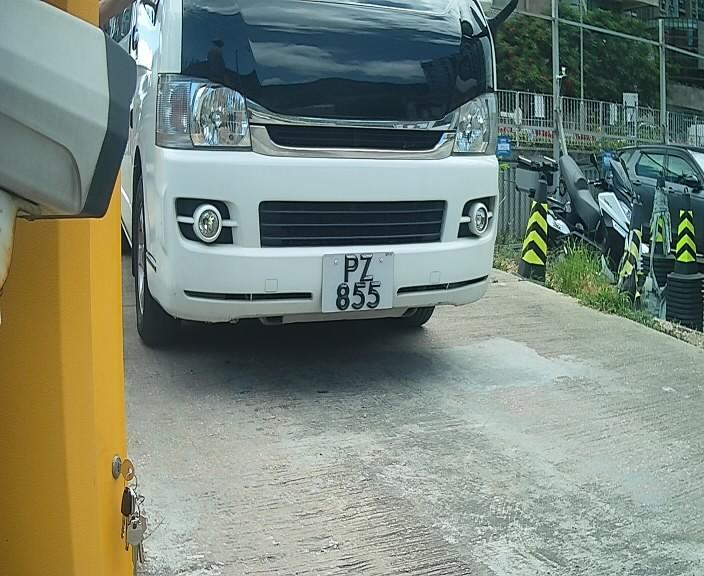Car: (76, 11, 516, 376)
License Plate: (312, 245, 400, 319)
